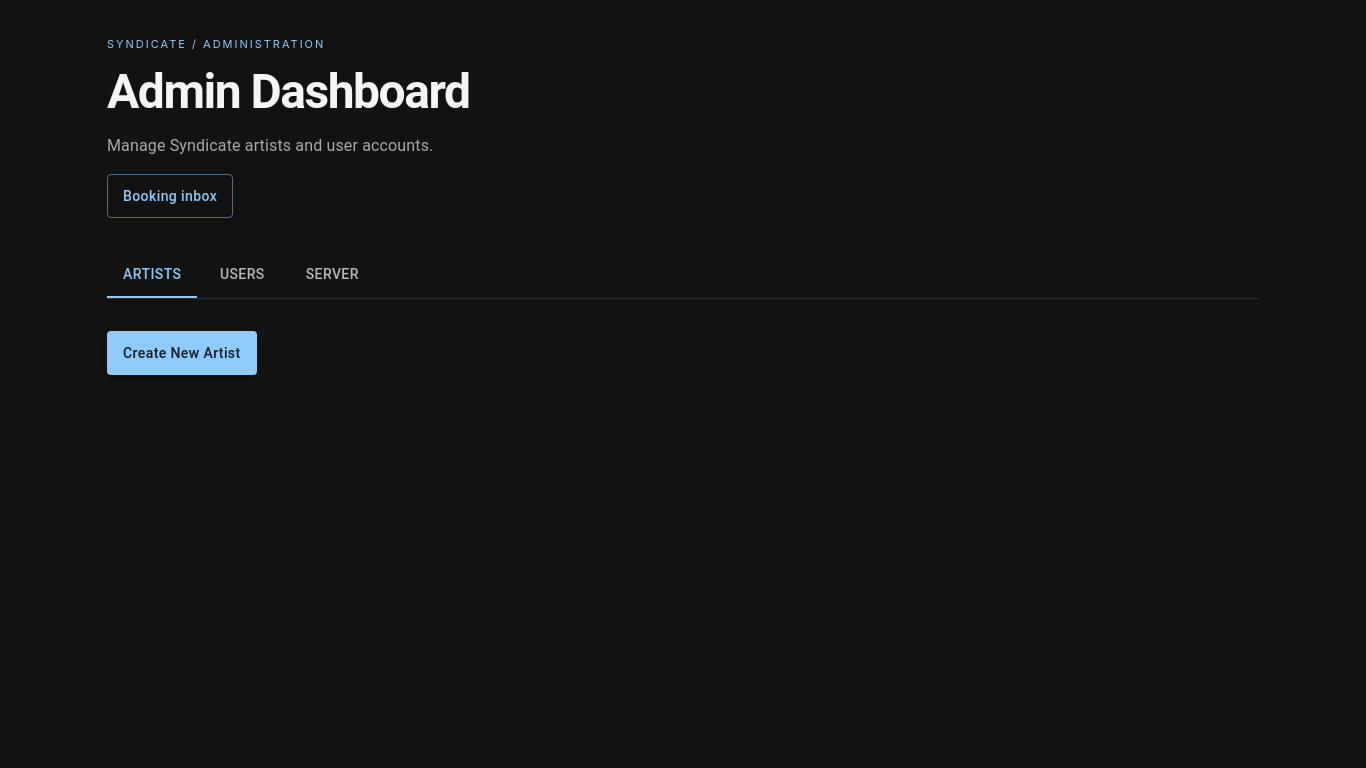
Scenario: keeps a save icon in the admin user editor
Click the tab "Users" at coordinates (242, 274), box left=197, top=250, right=287, bottom=298
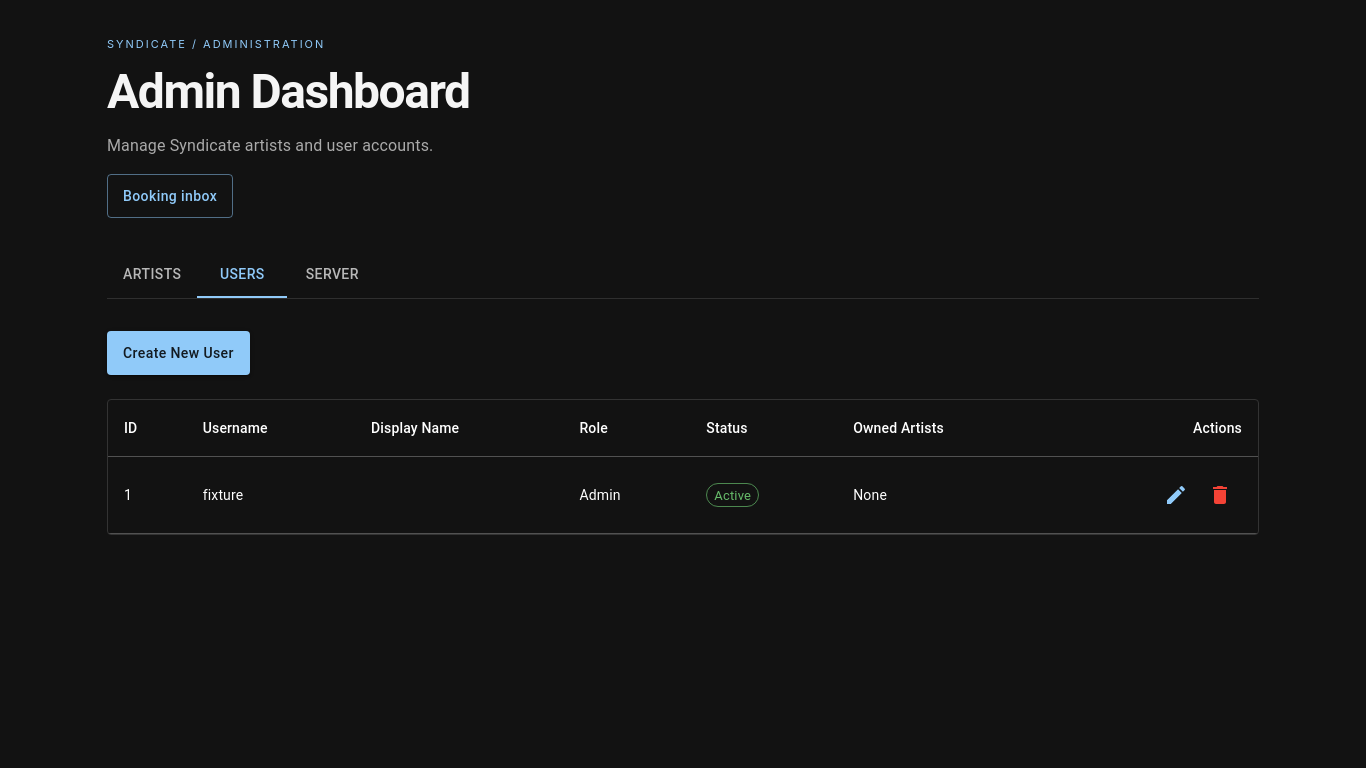
Click the button named "Edit user" at coordinates (1176, 495), box left=1154, top=473, right=1198, bottom=517
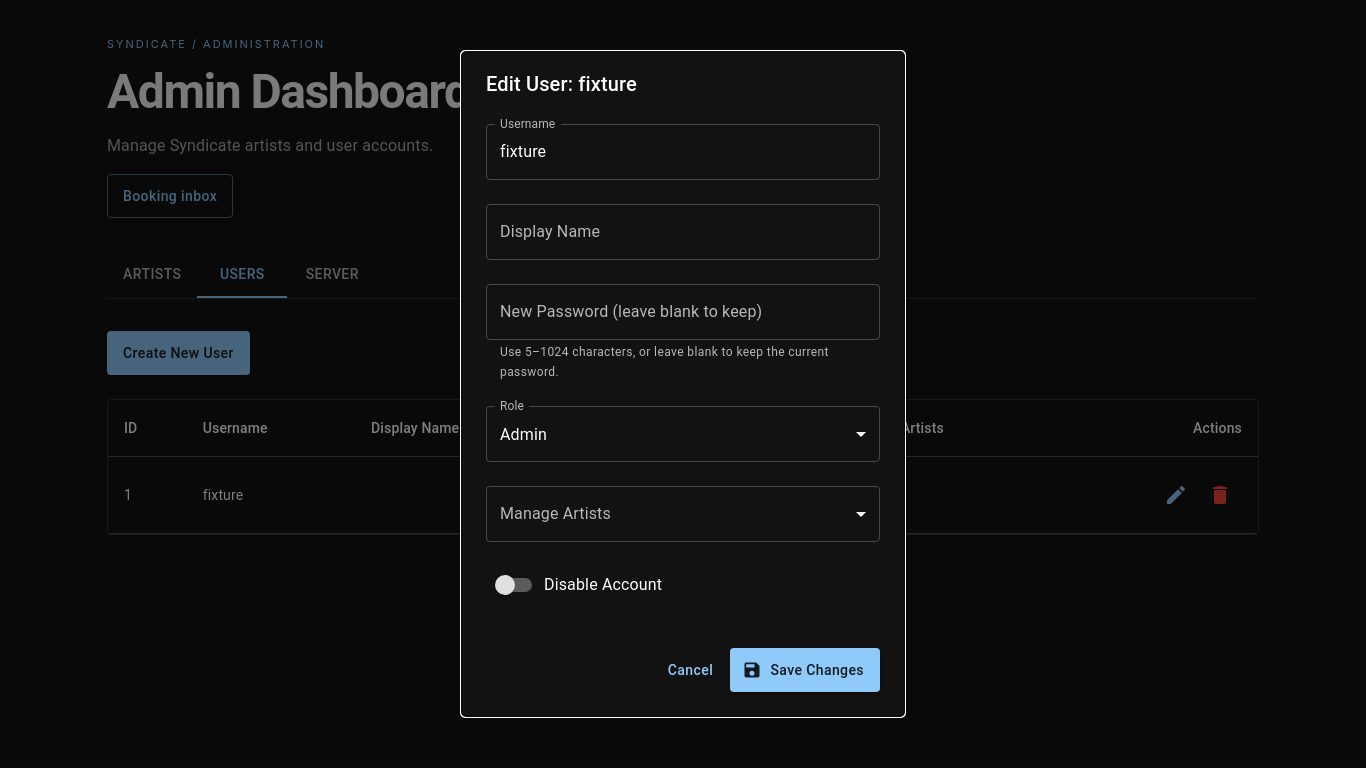
Check: the button "Save Changes" does not show ""
Check: the 3rd icon is shown, box left=742, top=660, right=762, bottom=680
